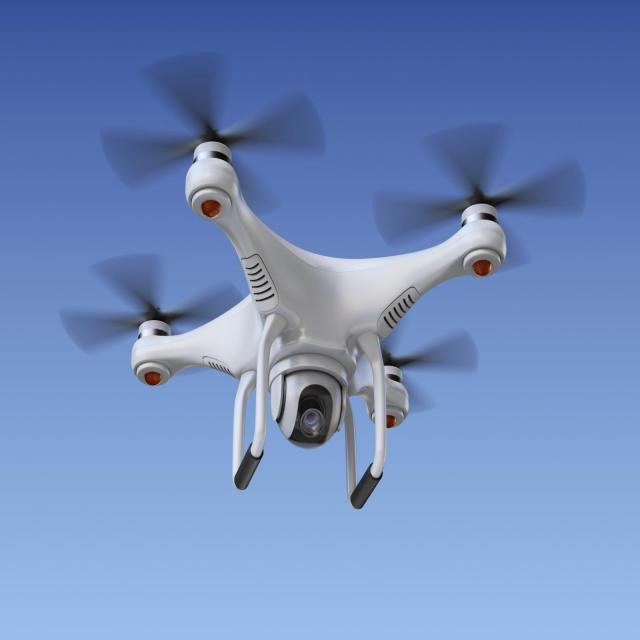drone: (57, 53, 589, 515)
